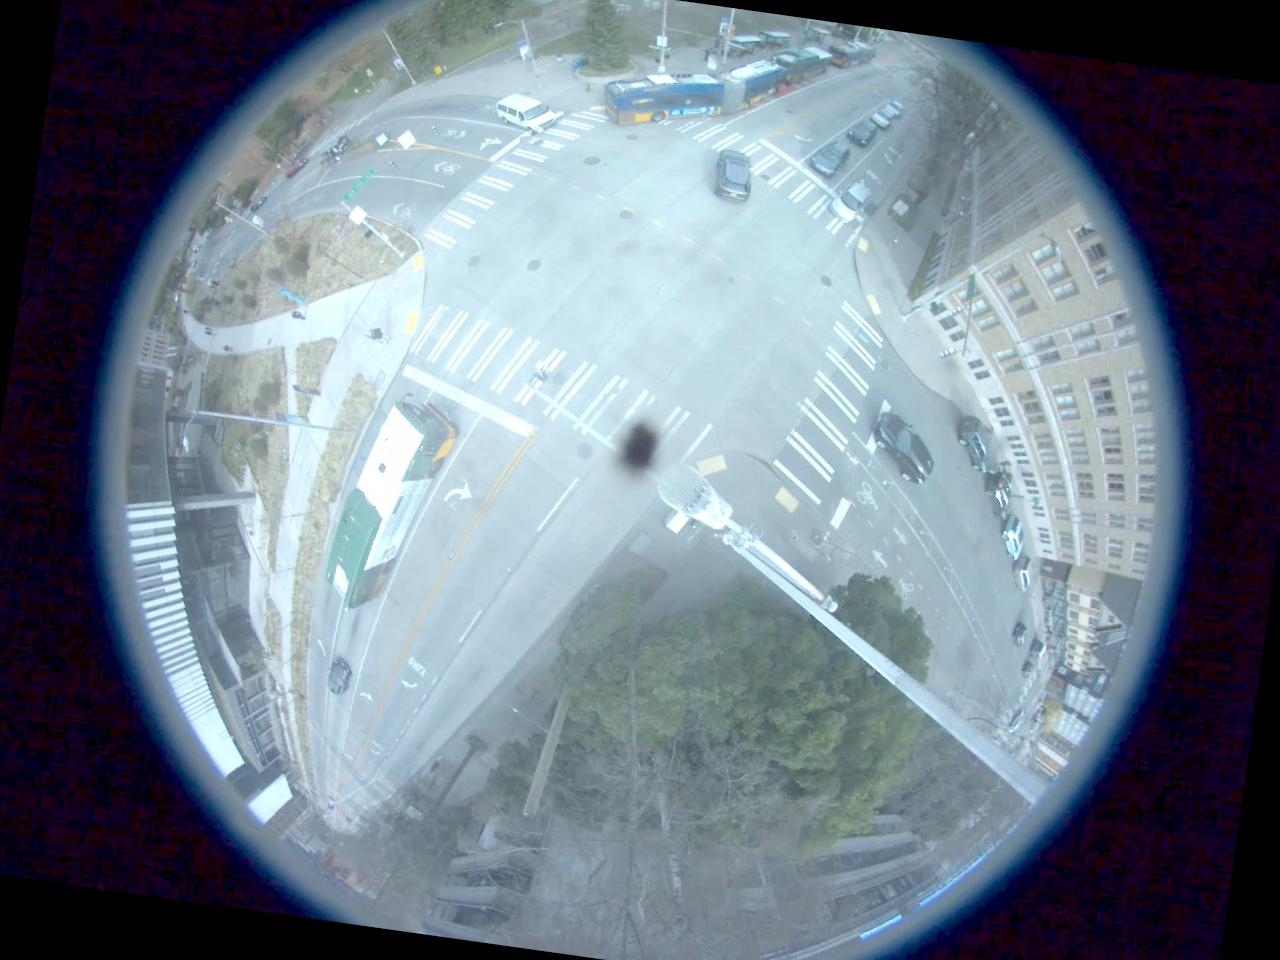bus: (322, 390, 456, 620), (598, 38, 784, 150), (770, 41, 830, 89), (826, 37, 876, 69)
car: (870, 413, 940, 480), (709, 146, 755, 206), (496, 92, 554, 134), (960, 417, 994, 472), (830, 178, 871, 222), (981, 469, 1014, 518), (808, 140, 848, 180), (996, 513, 1028, 560), (322, 656, 352, 697), (843, 117, 875, 148), (1010, 555, 1036, 592), (870, 104, 895, 128)
person: (364, 326, 394, 344), (286, 307, 309, 325)
